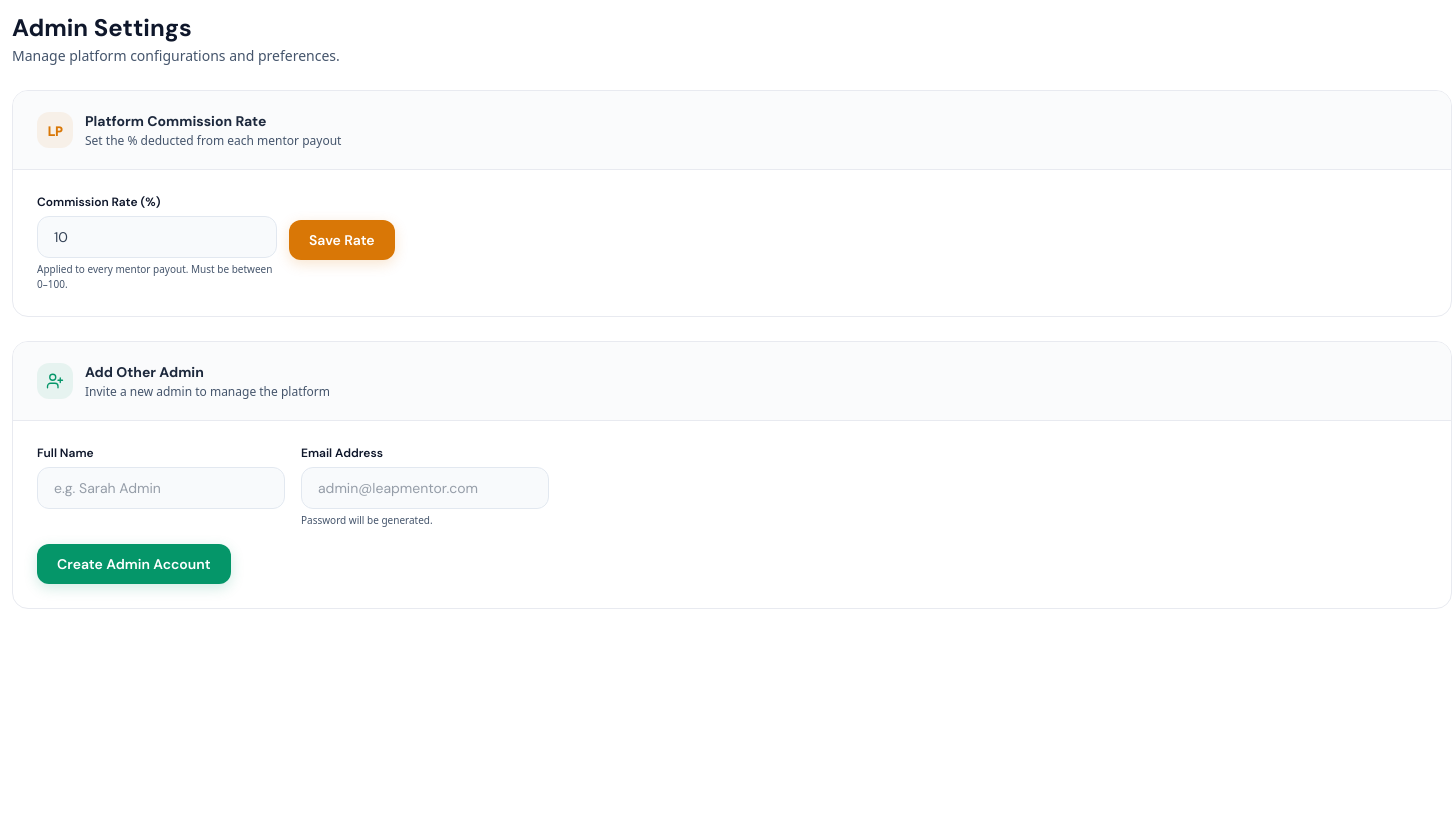
Test case: AdminSettings › shows a validation error when commission rate is out of range
Replace the text in the number field labelled "Commission Rate (%)" with "150" at (157, 237), box [37, 216, 277, 258]
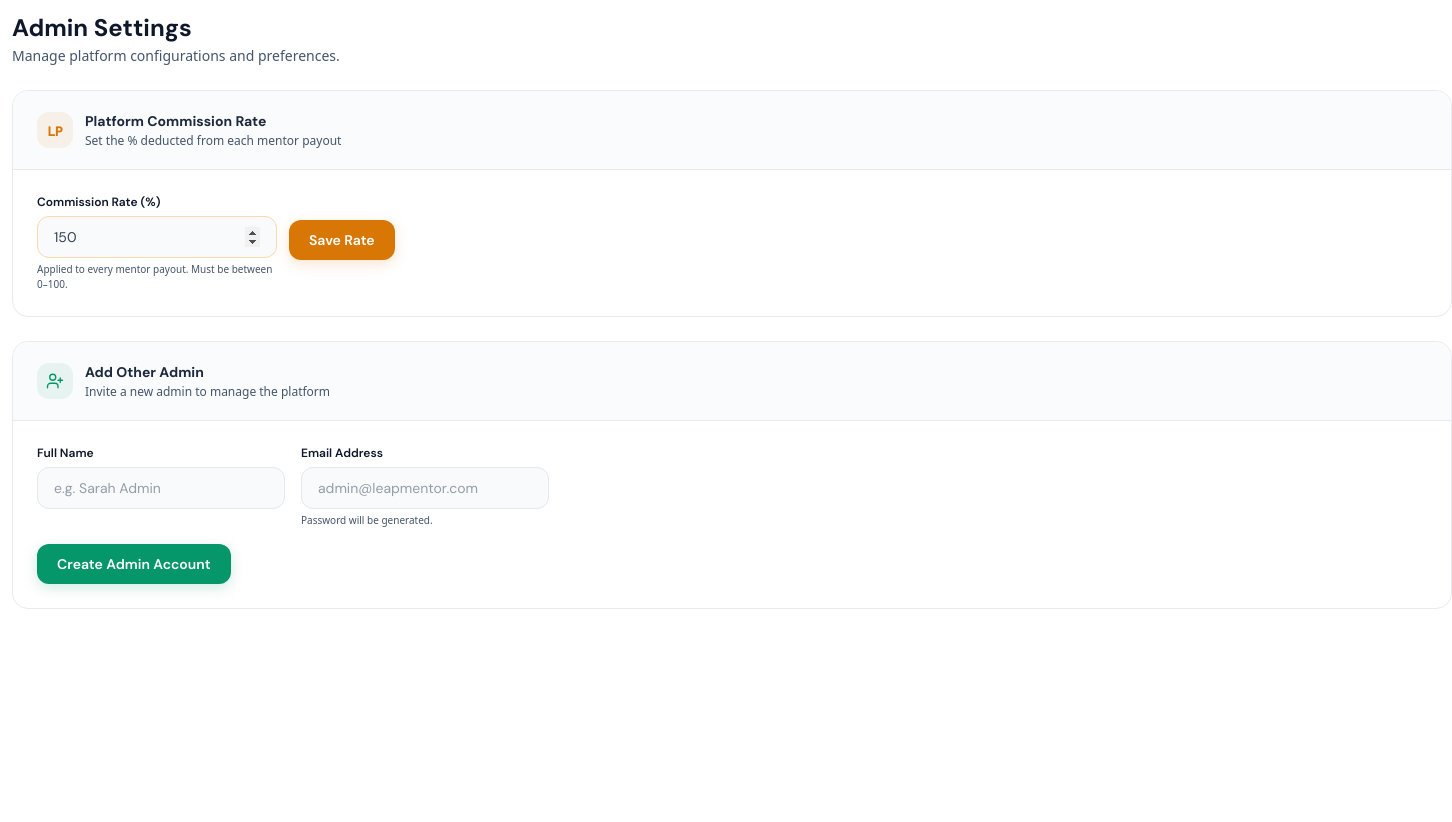
Click the button "Save Rate" at (342, 240), box [289, 220, 395, 260]
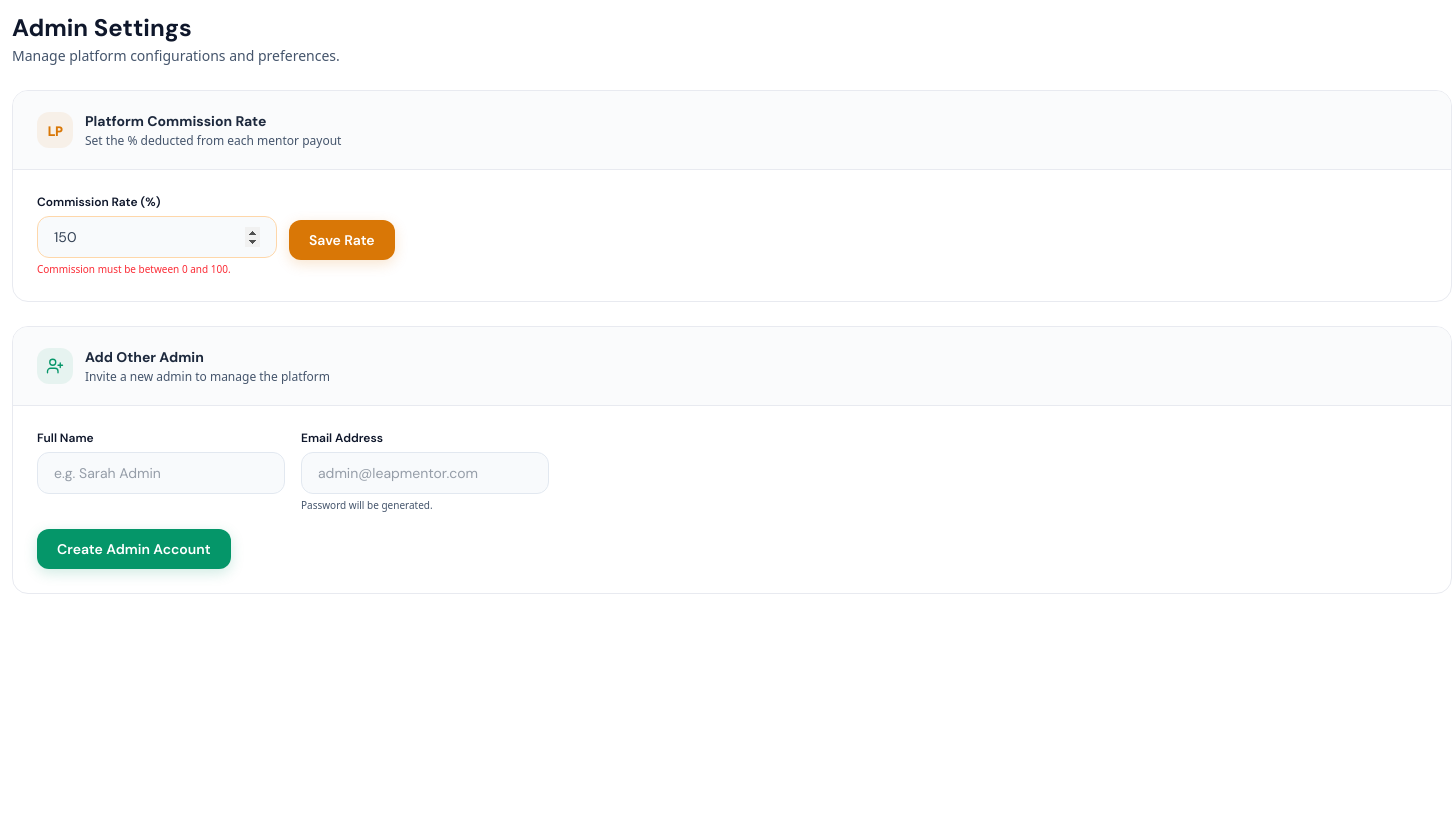
Result: the text "Commission must be between 0 and 100." is shown at [37, 262, 231, 276]
